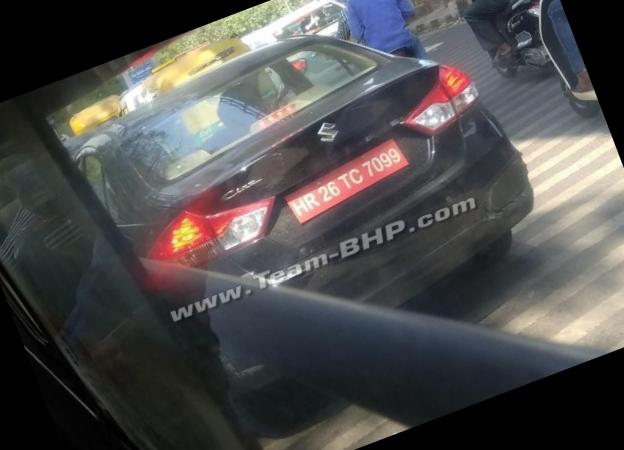plate: (268, 138, 423, 231)
